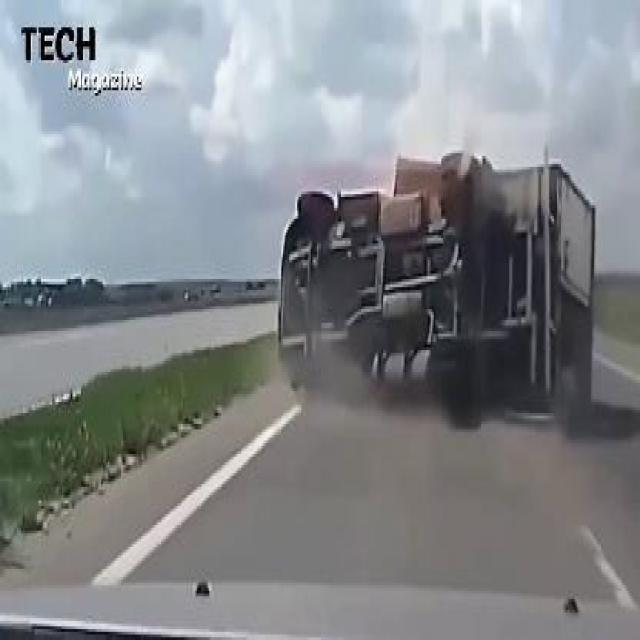accident: (280, 159, 598, 424)
